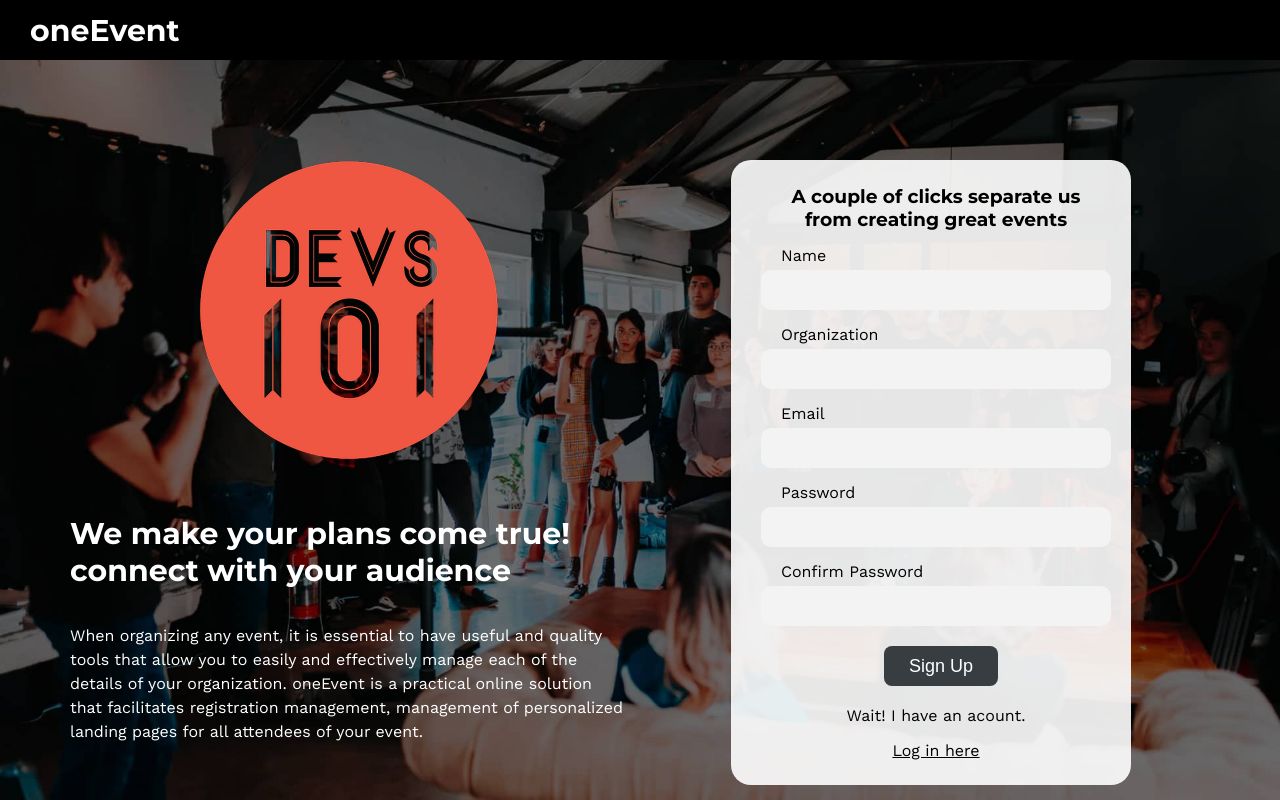
AuthPage pages › To change the form › is expected to have component LoginForm after click
This screenshot has width=1280, height=800.
Step 1. Click the text "Log in here" → point(936, 750), box top-left (892, 741), bottom-right (980, 760)
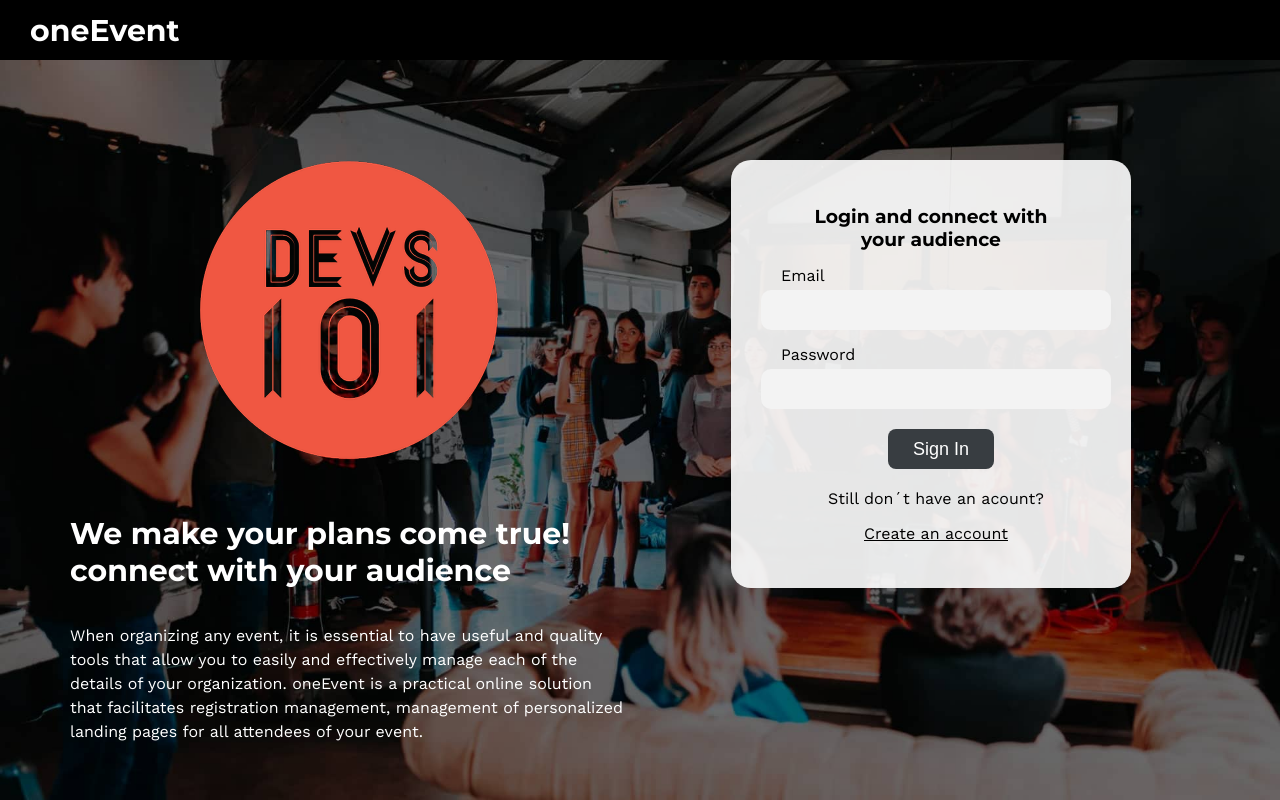
Expected: the number of "LoginForm" components is 1, top-left (731, 160), bottom-right (1131, 588)
